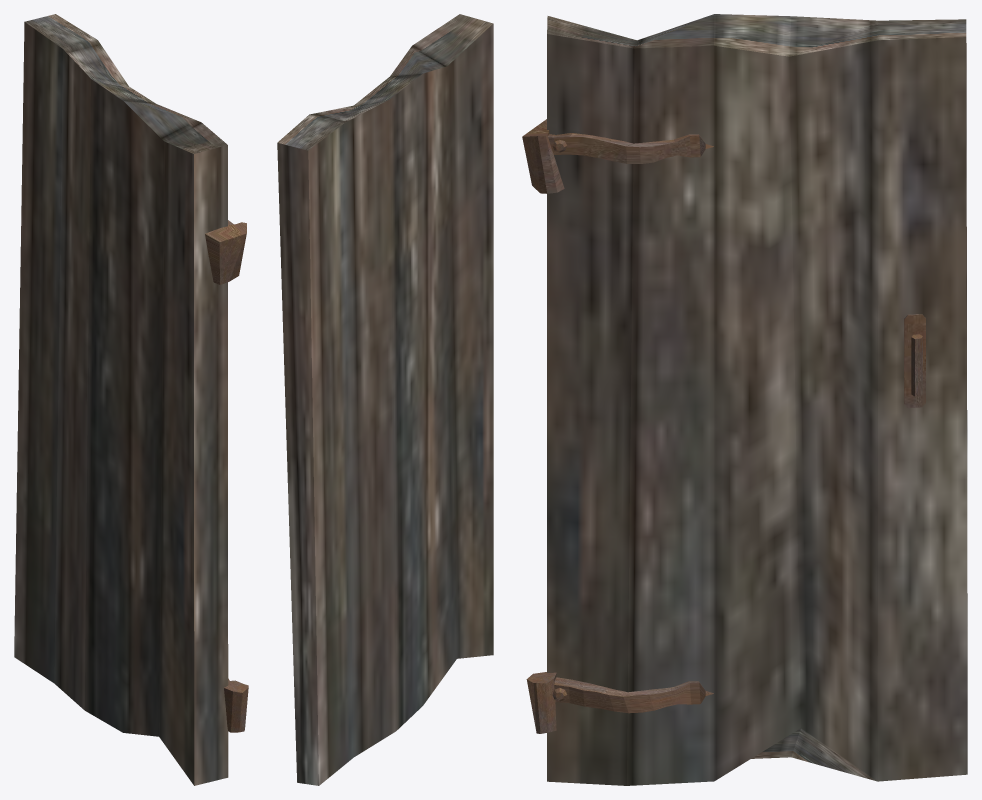
Rendered from shackdoor.fbx.
3 renders of one model, left to right at view 1: azimuth 30°, elevation 25°; view 2: azimuth 150°, elevation 25°; view 3: azimuth 270°, elevation 25°, orthographic. The views are drawn at different scales.
Parts seen in each view (by area): view 1: Cube, Cube.002, Cube.003; view 2: Cube; view 3: Cube, Cube.002, Cube.003, Cube.001.
Boxes of the visible parts, x1=… form: Cube: x1=14, y1=14, x2=228, y2=785; Cube.002: x1=205, y1=220, x2=246, y2=284; Cube.003: x1=224, y1=678, x2=248, y2=732; Cube: x1=277, y1=14, x2=493, y2=785; Cube: x1=547, y1=14, x2=967, y2=785; Cube.002: x1=522, y1=119, x2=713, y2=193; Cube.003: x1=526, y1=672, x2=713, y2=733; Cube.001: x1=904, y1=314, x2=925, y2=408.
Size of the model in its own units: 22.59 by 226 by 122.
3 materials, 3 textured.
